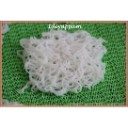idiyappam: (20, 31, 105, 95)
